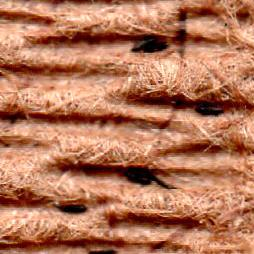egg: (134, 35, 156, 53), (122, 165, 153, 177), (125, 173, 151, 185), (195, 105, 222, 114), (56, 204, 86, 212), (145, 43, 168, 53), (85, 247, 118, 253)
